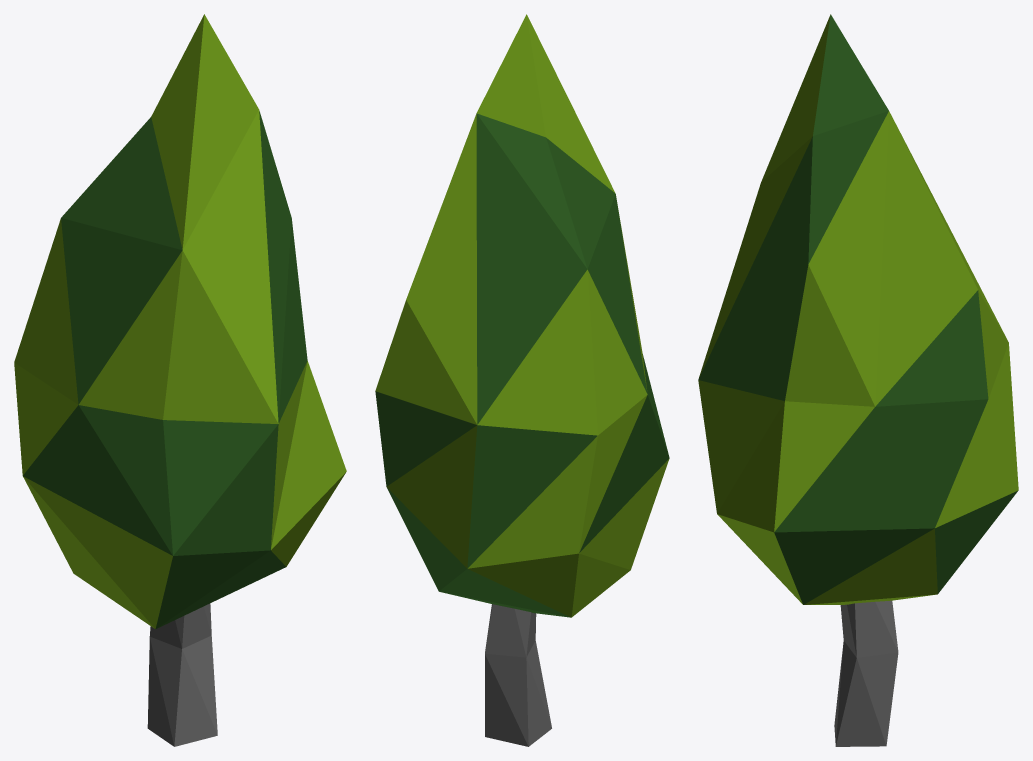
Rendered from Tree1_M1_4_medium.fbx.
The picture shows the model from 3 angles, left to right: view 1: azimuth 30°, elevation 25°; view 2: azimuth 150°, elevation 25°; view 3: azimuth 270°, elevation 25°; orthographic projection. The views are drawn at different scales.
Visible parts, largest first — view 1: Tree1_M1_4_medium; view 2: Tree1_M1_4_medium; view 3: Tree1_M1_4_medium.
Part boxes in pixels (left/top/right/bottom): Tree1_M1_4_medium: left=14, top=14, right=346, bottom=746; Tree1_M1_4_medium: left=375, top=14, right=669, bottom=746; Tree1_M1_4_medium: left=698, top=14, right=1018, bottom=746.
Size of the model in its own units: 80 by 226 by 90.59.
